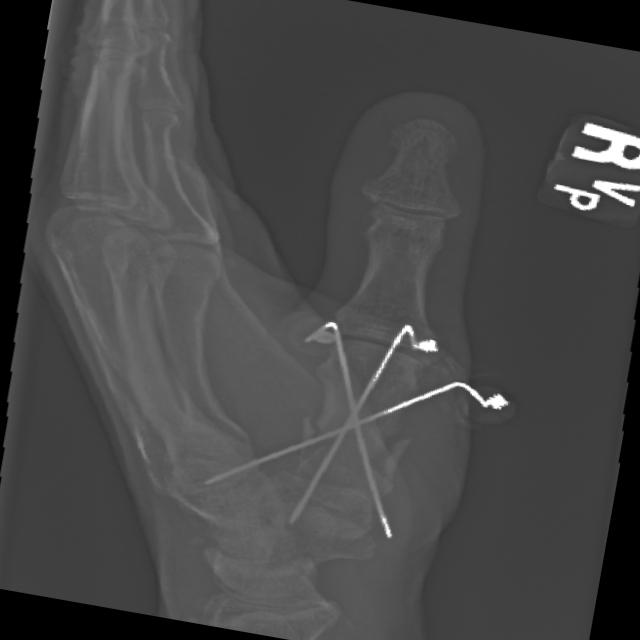fingers positive: (270, 385, 458, 546)
